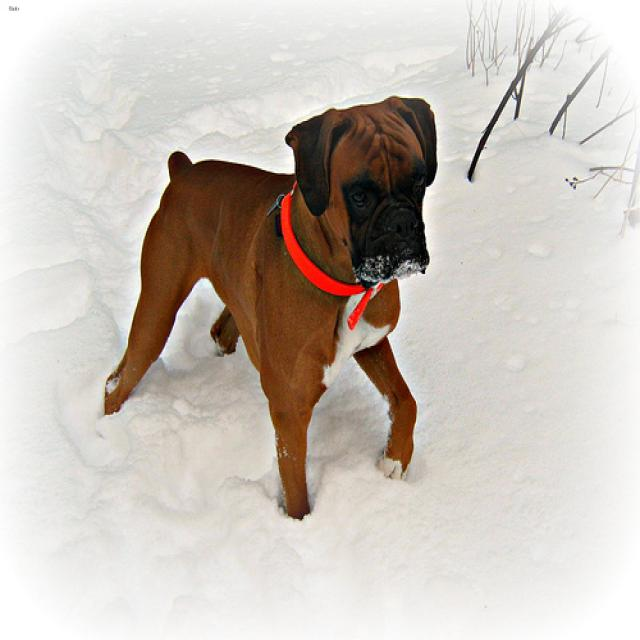dog-boxer: (95, 90, 447, 528)
